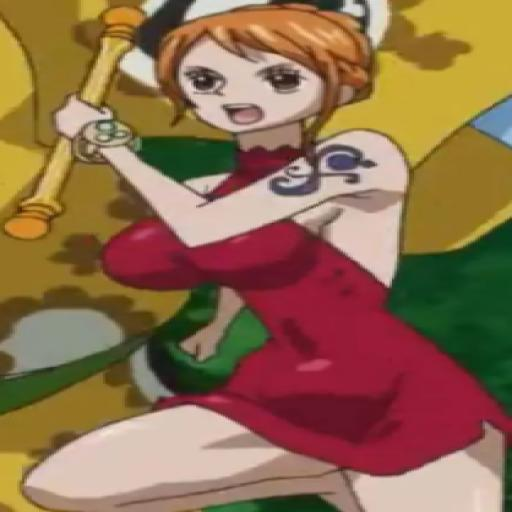Nami: (7, 1, 512, 512)
